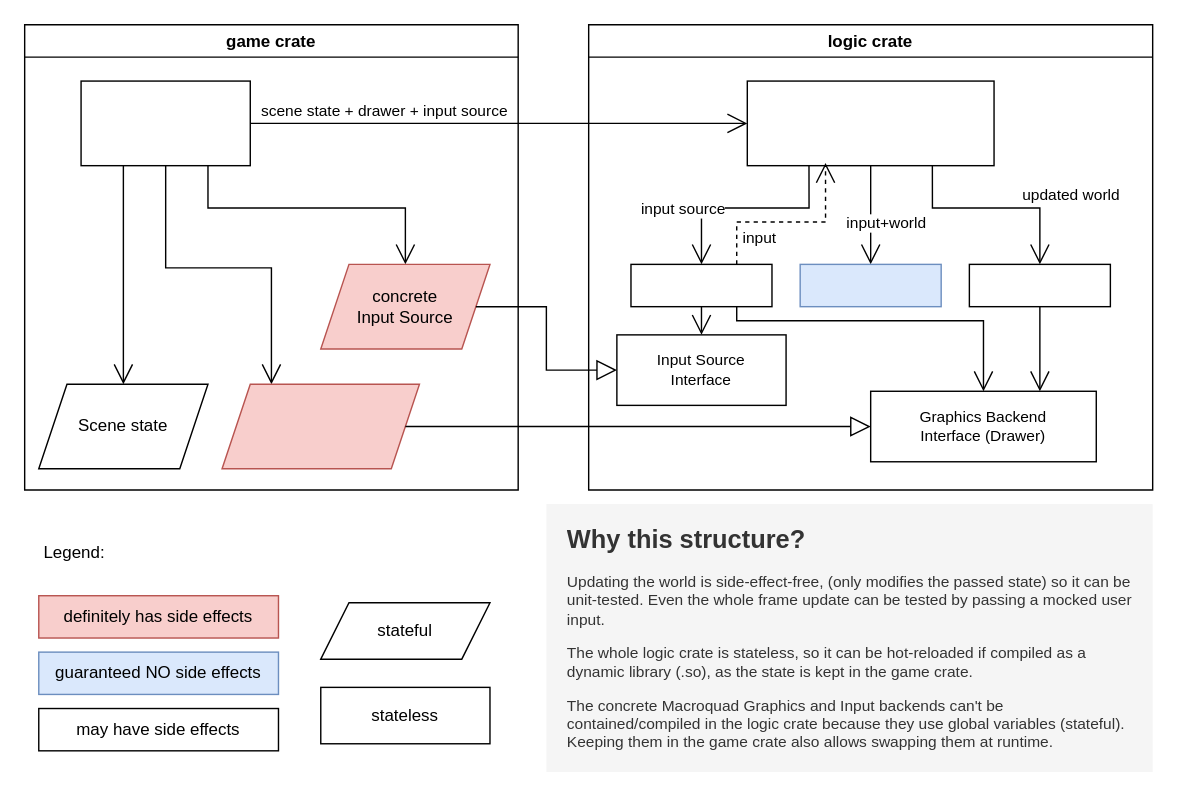
Some shapes in this 1177 by 797 pixel diagram are drawn without their labels. The centre of each missing label's shape, as x and y in pixels:
concrete Graphics Backend (Drawer): the point at 320,426
frame(&mut SceneState ): the point at 870,123
main entry point: the point at 165,123
render world: the point at 1039,285
take user input: the point at 701,285
update world: the point at 870,285
